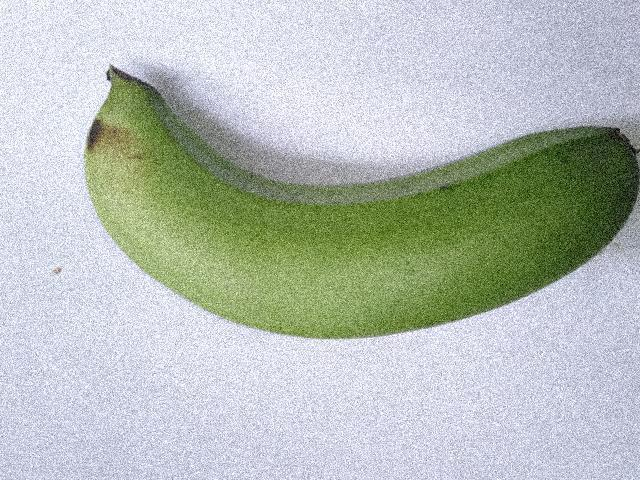freshunripe: (59, 47, 639, 354)
